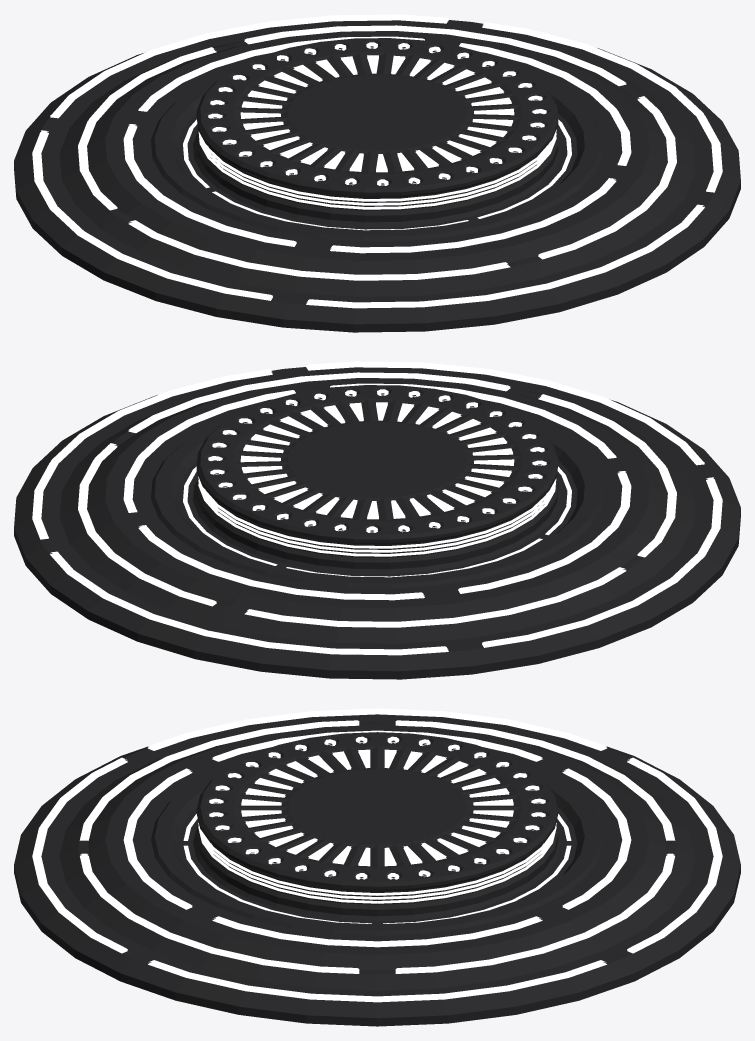
The model's file is bypass2.fbx.
The picture shows the model from 3 angles, top to bottom: view 1: azimuth 30°, elevation 25°; view 2: azimuth 150°, elevation 25°; view 3: azimuth 270°, elevation 25°; orthographic projection.
Visible parts, largest first — view 1: SciFI boost 1, SciFI boost 2, neon010, neon009; view 2: SciFI boost 1, SciFI boost 2, neon010, neon009; view 3: SciFI boost 1, SciFI boost 2, neon010, neon009.
Boxes of the visible parts, x1,y1,x2,y2 form: SciFI boost 1: (14, 16, 740, 332); SciFI boost 2: (196, 38, 558, 222); neon010: (34, 14, 720, 304); neon009: (208, 42, 546, 185); SciFI boost 1: (14, 363, 740, 679); SciFI boost 2: (196, 385, 558, 569); neon010: (34, 361, 720, 651); neon009: (208, 389, 546, 532); SciFI boost 1: (14, 710, 740, 1026); SciFI boost 2: (196, 732, 558, 916); neon010: (34, 708, 720, 998); neon009: (209, 736, 545, 878).
Bounding box in the file's own units: 241 × 24.05 × 241.
